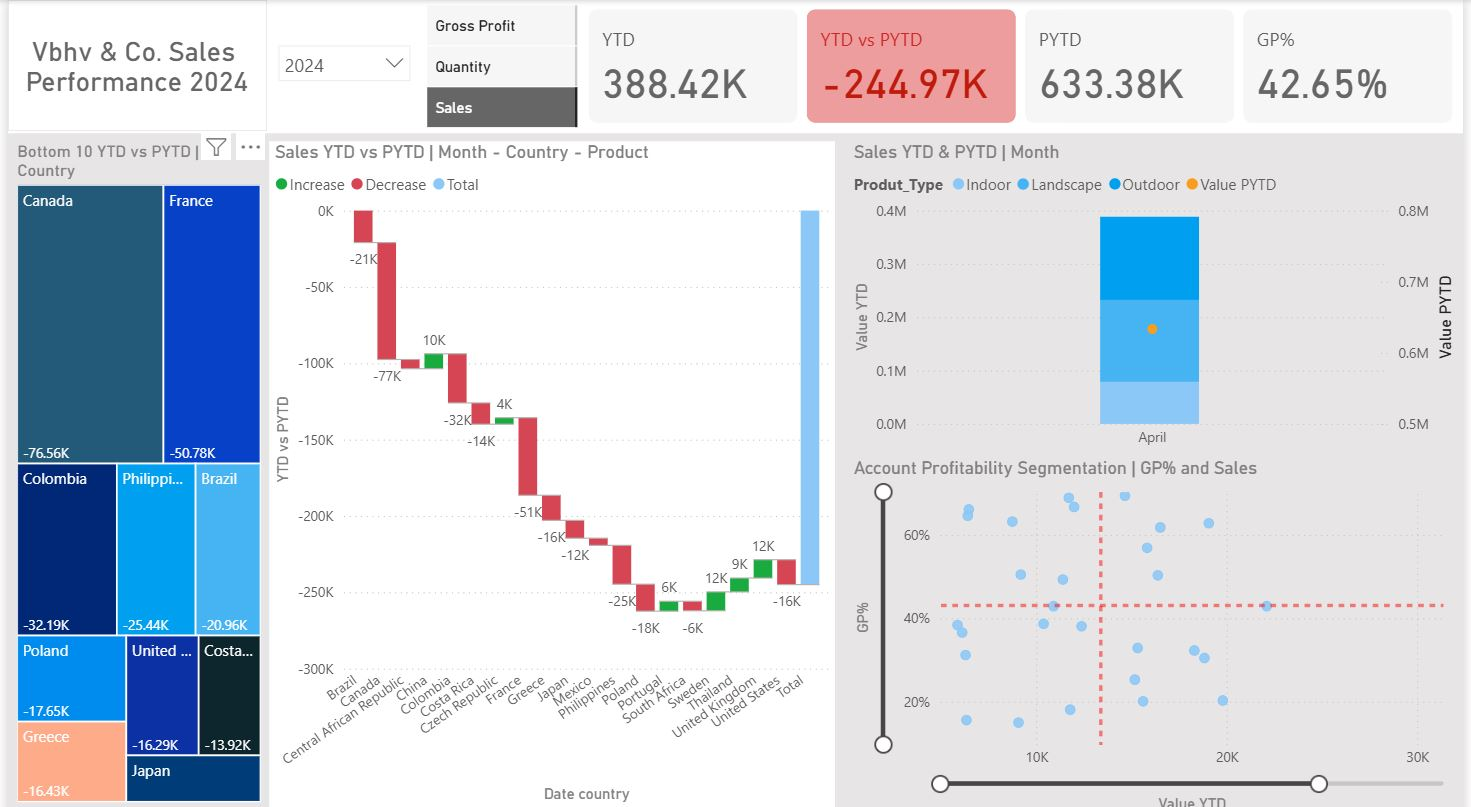

The dashboard page shown, as its layout file describes it:
{"tool":"powerbi","page":{"name":"Performance Report","canvas":[1280,720],"ordinal":0},"visuals":[{"type":"cardVisual","fields":{"Data":["_Measures.Switch_YTD","_Measures.YTD vs PYTD","_Measures.Switch_PYTD","_Measures.GP%"]},"box":[506.2,3.8,773.8,110],"z":0},{"type":"advancedSlicerVisual","fields":{"Values":["Slicer_Val.Values"]},"box":[363.8,0,142.5,117.5],"z":1000},{"type":"slicer","fields":{"Values":["Dim_Date.Date.Variation.Date Hierarchy.Year"]},"box":[227.5,30,136.2,57.5],"z":2000},{"type":"treemap","title":"Bottom 10 YTD vs PYTD | Country","fields":{"Values":["_Measures.YTD vs PYTD"],"Group":["Dim_Accounts.country"]},"box":[3.8,123.8,224,586.2],"z":3000},{"type":"waterfallChart","fields":{"Y":["_Measures.YTD vs PYTD"],"Category":["Dim_Date.Date.Variation.Date Hierarchy.Month","Dim_Accounts.country","Dim_Product.Produt_Type","Dim_Product.Product_Name"]},"box":[230,123.8,497.5,586.2],"z":4000},{"type":"lineStackedColumnComboChart","fields":{"Category":["Dim_Date.Date.Variation.Date Hierarchy.Quarter","Dim_Date.Date.Variation.Date Hierarchy.Month"],"Y":["_Measures.Switch_YTD"],"Y2":["_Measures.Switch_PYTD"],"Series":["Dim_Product.Produt_Type"]},"box":[738.8,123.8,538.8,278.8],"z":5000},{"type":"scatterChart","fields":{"Y":["_Measures.GP%"],"X":["_Measures.Switch_YTD"],"Category":["Dim_Accounts.Account"]},"box":[738.8,402.5,538.8,317.5],"z":6000},{"type":"card","fields":{"Values":["_Measures._Report title"]},"box":[0,0,227.5,115],"z":6001}]}

Visuals, with their boxes in screenshot pixels (x1, y1, x2, y2), scaled from the page's 1280x720 canvas onto the 1471x807 screenshot:
cardVisual - _Measures.Switch_YTD x _Measures.YTD vs PYTD: select_region(582, 4, 1470, 128)
advancedSlicerVisual - Slicer_Val.Values: select_region(418, 0, 582, 132)
slicer - Dim_Date.Date.Variation.Date Hierarchy.Year: select_region(261, 34, 418, 98)
"Bottom 10 YTD vs PYTD | Country" treemap: select_region(4, 139, 262, 796)
waterfallChart - _Measures.YTD vs PYTD x Dim_Date.Date.Variation.Date Hierarchy.Month: select_region(264, 139, 836, 796)
lineStackedColumnComboChart - Dim_Date.Date.Variation.Date Hierarchy.Quarter x Dim_Date.Date.Variation.Date Hierarchy.Month: select_region(849, 139, 1468, 451)
scatterChart - _Measures.GP% x _Measures.Switch_YTD: select_region(849, 451, 1468, 806)
card - _Measures._Report title: select_region(0, 0, 261, 129)
